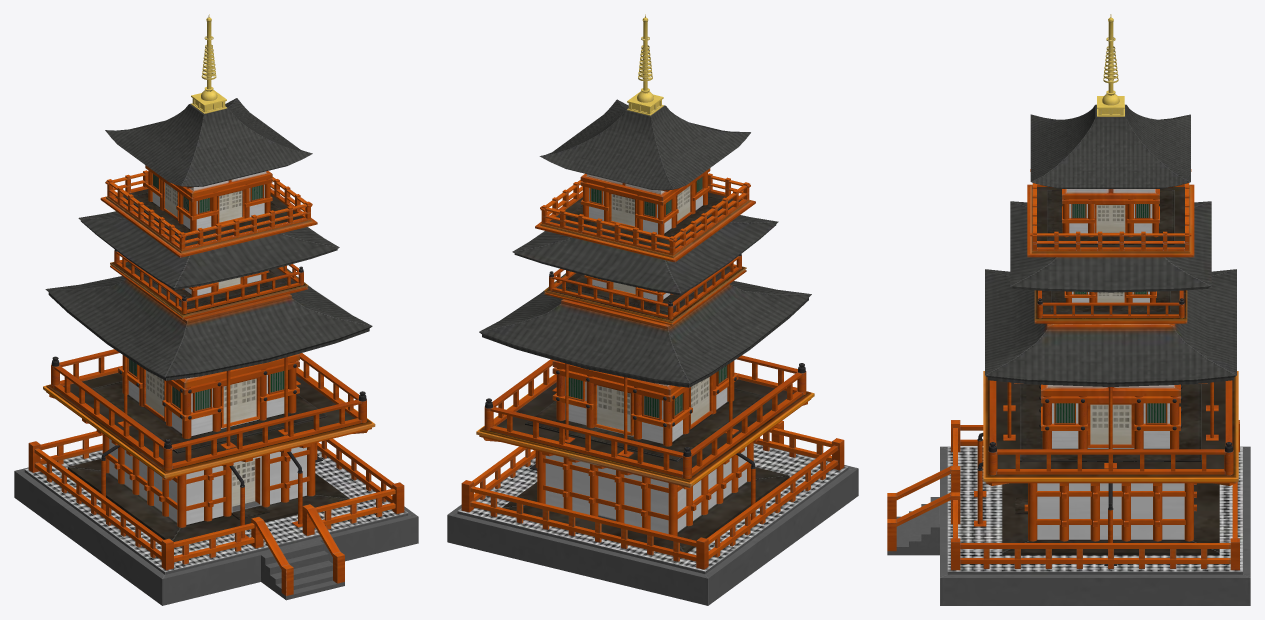
The model's file is dojo_7.glb.
The picture shows the model from 3 angles, left to right: view 1: azimuth 30°, elevation 25°; view 2: azimuth 150°, elevation 25°; view 3: azimuth 270°, elevation 25°; orthographic projection. The views are drawn at different scales.
Parts seen in each view (by area): view 1: Japanese_Shrine; view 2: Japanese_Shrine; view 3: Japanese_Shrine.
Part boxes in pixels (<box>): Japanese_Shrine: <box>14,14,418,605</box>; Japanese_Shrine: <box>447,14,858,605</box>; Japanese_Shrine: <box>887,14,1250,605</box>.
Size of the model in its own units: 2000 by 3738 by 2340.
Materials: 1 (1 with a texture image).
